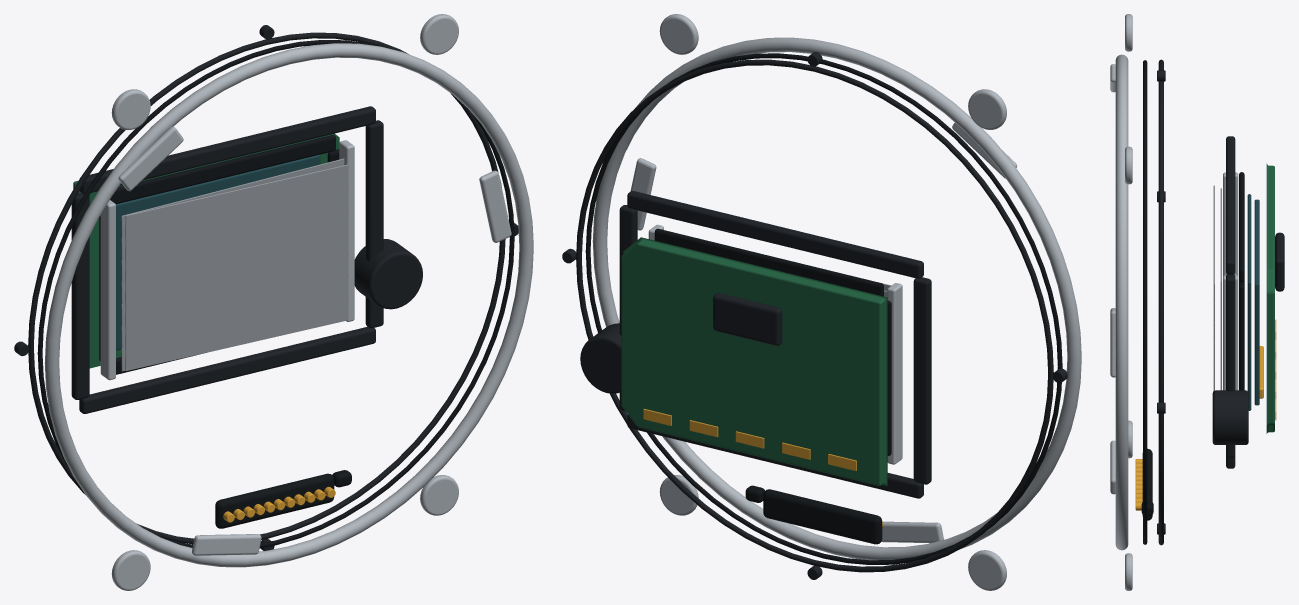
Rendered from 03_mount_shutter_sensor.glb.
3 renders of one model, left to right at view 1: azimuth 30°, elevation 25°; view 2: azimuth 150°, elevation 25°; view 3: azimuth 270°, elevation 25°, orthographic. The views are drawn at different scales.
Parts seen in each view (by area): view 1: Z50II-03-001_mount_ring.001, Z50II-03-005_mount_spacer.001, Z50II-03-002_mount_gasket.001, Z50II-03-008_shutter_frame_bottom.001, Z50II-03-006_shutter_front_curtain.001, Z50II-03-006_shutter_front_curtain_lamella_07.001, Z50II-03-006_shutter_front_curtain_lamella_04.001, Z50II-03-006_shutter_front_curtain_lamella_06.001, Z50II-03-006_shutter_front_curtain_lamella_02.001, Z50II-03-006_shutter_front_curtain_lamella_05.001, Z50II-03-006_shutter_front_curtain_lamella_03.001, Z50II-03-008_shutter_frame.001 (+17 smaller); view 2: Z50II-03-011_sensor_pcb.001, Z50II-03-001_mount_ring.001, Z50II-03-005_mount_spacer.001, Z50II-03-002_mount_gasket.001, Z50II-03-008_shutter_frame.001, Z50II-03-008_shutter_frame_left.001, Z50II-03-003_contact_block.001, Z50II-03-012_dust_shield.001, Z50II_sensor_pcb_controller.001, Z50II_shutter_motor_housing.001, Z50II_shutter_guide_left.001, Z50II-03-008_shutter_frame_bottom.001 (+8 smaller); view 3: Z50II-03-001_mount_ring.001, Z50II-03-005_mount_spacer.001, Z50II-03-002_mount_gasket.001, Z50II-03-011_sensor_pcb.001, Z50II_shutter_motor_housing.001, Z50II-03-008_shutter_frame.001, Z50II-03-008_shutter_frame_right.001, Z50II-03-009_sensor_package.001, Z50II-03-010_sensor_cover_glass.001, Z50II_shutter_guide_right.001, Z50II_shutter_guide_left.001, Z50II-03-012_dust_shield.001 (+9 smaller).
Boxes of the visible parts, left/top/right/bottom form: Z50II-03-001_mount_ring.001: left=44, top=43, right=533, bottom=567; Z50II-03-005_mount_spacer.001: left=28, top=32, right=505, bottom=544; Z50II-03-002_mount_gasket.001: left=37, top=40, right=514, bottom=548; Z50II-03-008_shutter_frame_bottom.001: left=79, top=326, right=375, bottom=413; Z50II-03-006_shutter_front_curtain.001: left=125, top=164, right=348, bottom=238; Z50II-03-006_shutter_front_curtain_lamella_07.001: left=125, top=297, right=348, bottom=370; Z50II-03-006_shutter_front_curtain_lamella_04.001: left=125, top=231, right=348, bottom=304; Z50II-03-006_shutter_front_curtain_lamella_06.001: left=125, top=275, right=348, bottom=348; Z50II-03-006_shutter_front_curtain_lamella_02.001: left=125, top=187, right=348, bottom=260; Z50II-03-006_shutter_front_curtain_lamella_05.001: left=125, top=253, right=348, bottom=326; Z50II-03-006_shutter_front_curtain_lamella_03.001: left=125, top=209, right=348, bottom=282; Z50II-03-008_shutter_frame.001: left=79, top=106, right=375, bottom=194; Z50II-03-011_sensor_pcb.001: left=621, top=237, right=887, bottom=486; Z50II-03-001_mount_ring.001: left=592, top=37, right=1081, bottom=560; Z50II-03-005_mount_spacer.001: left=576, top=59, right=1053, bottom=572; Z50II-03-002_mount_gasket.001: left=585, top=53, right=1062, bottom=564; Z50II-03-008_shutter_frame.001: left=627, top=191, right=923, bottom=278; Z50II-03-008_shutter_frame_left.001: left=913, top=277, right=931, bottom=484; Z50II-03-003_contact_block.001: left=763, top=489, right=882, bottom=544; Z50II-03-012_dust_shield.001: left=654, top=228, right=883, bottom=296; Z50II_sensor_pcb_controller.001: left=713, top=293, right=782, bottom=345; Z50II_shutter_motor_housing.001: left=580, top=323, right=621, bottom=393; Z50II_shutter_guide_left.001: left=887, top=283, right=902, bottom=464; Z50II-03-008_shutter_frame_bottom.001: left=627, top=414, right=923, bottom=498; Z50II-03-001_mount_ring.001: left=1115, top=54, right=1128, bottom=550; Z50II-03-005_mount_spacer.001: left=1158, top=59, right=1163, bottom=545; Z50II-03-002_mount_gasket.001: left=1143, top=60, right=1147, bottom=544; Z50II-03-011_sensor_pcb.001: left=1266, top=163, right=1274, bottom=433; Z50II_shutter_motor_housing.001: left=1212, top=390, right=1248, bottom=444; Z50II-03-008_shutter_frame.001: left=1226, top=136, right=1235, bottom=274; Z50II-03-008_shutter_frame_right.001: left=1226, top=274, right=1235, bottom=457; Z50II-03-009_sensor_package.001: left=1254, top=199, right=1259, bottom=405; Z50II-03-010_sensor_cover_glass.001: left=1247, top=194, right=1251, bottom=410; Z50II_shutter_guide_right.001: left=1223, top=275, right=1238, bottom=390; Z50II_shutter_guide_left.001: left=1223, top=172, right=1238, bottom=276; Z50II-03-012_dust_shield.001: left=1239, top=172, right=1244, bottom=282.
Bounding box in the file's own units: 0.0597 × 0.0597 × 0.0204.
